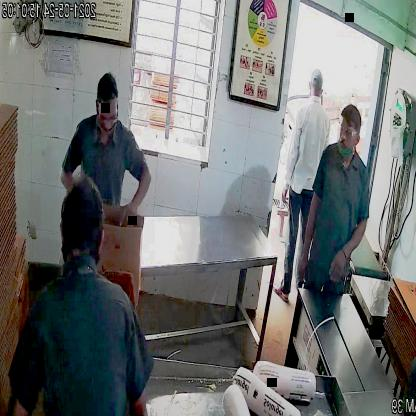goggles: (95, 102, 120, 127), (336, 124, 362, 142)
